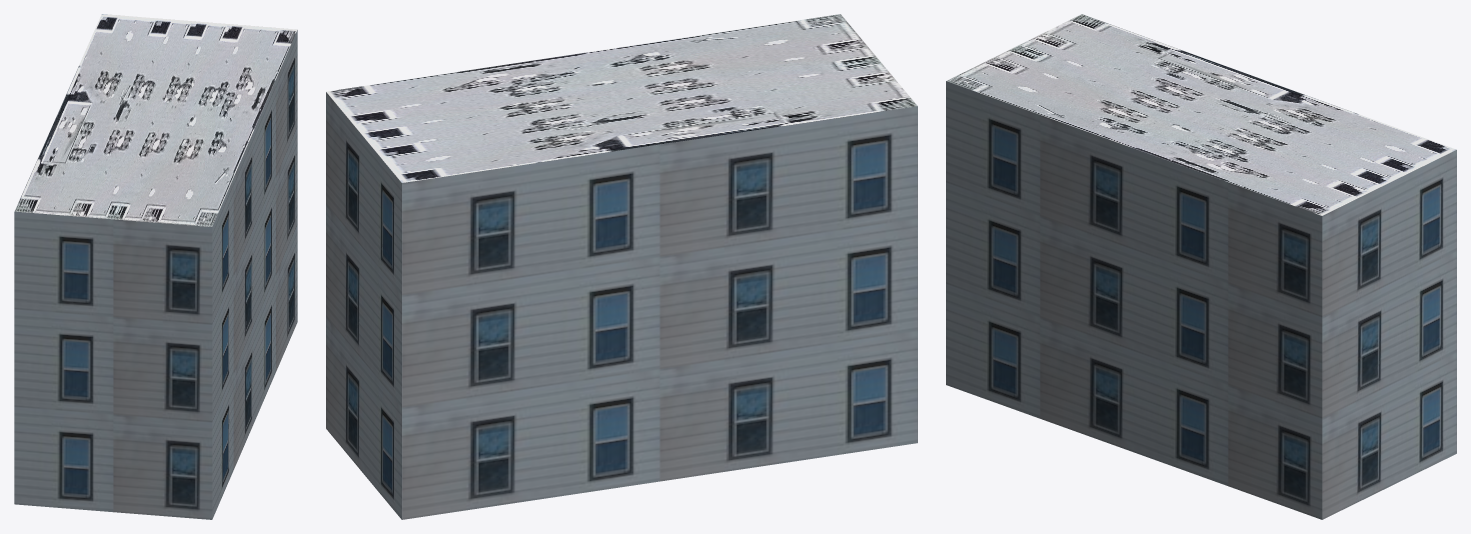
Rendered from ResTex__1617.fbx.
The picture shows the model from 3 angles, left to right: view 1: azimuth 30°, elevation 25°; view 2: azimuth 150°, elevation 25°; view 3: azimuth 270°, elevation 25°; orthographic projection. The views are drawn at different scales.
Parts seen in each view (by area): view 1: CityEngineMaterial_18_m, CityEngineMaterial_m; view 2: CityEngineMaterial_18_m, CityEngineMaterial_m; view 3: CityEngineMaterial_18_m, CityEngineMaterial_m.
Part boxes in pixels (x1=…): CityEngineMaterial_18_m: x1=14, y1=30, x2=297, y2=519; CityEngineMaterial_m: x1=14, y1=14, x2=296, y2=226; CityEngineMaterial_18_m: x1=326, y1=92, x2=917, y2=519; CityEngineMaterial_m: x1=326, y1=14, x2=917, y2=182; CityEngineMaterial_18_m: x1=946, y1=81, x2=1456, y2=519; CityEngineMaterial_m: x1=946, y1=14, x2=1456, y2=215.
Bounding box in the file's own units: 12.83 × 9 × 13.7.
2 materials, 2 textured.
